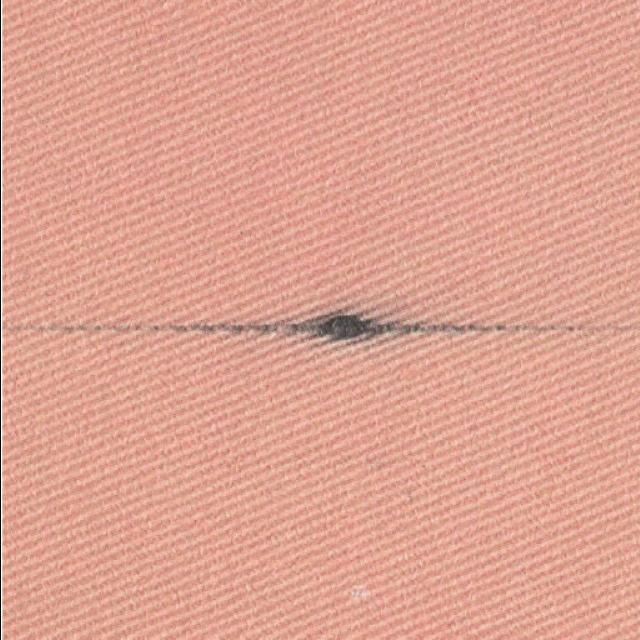stains: (10, 203, 640, 441)
